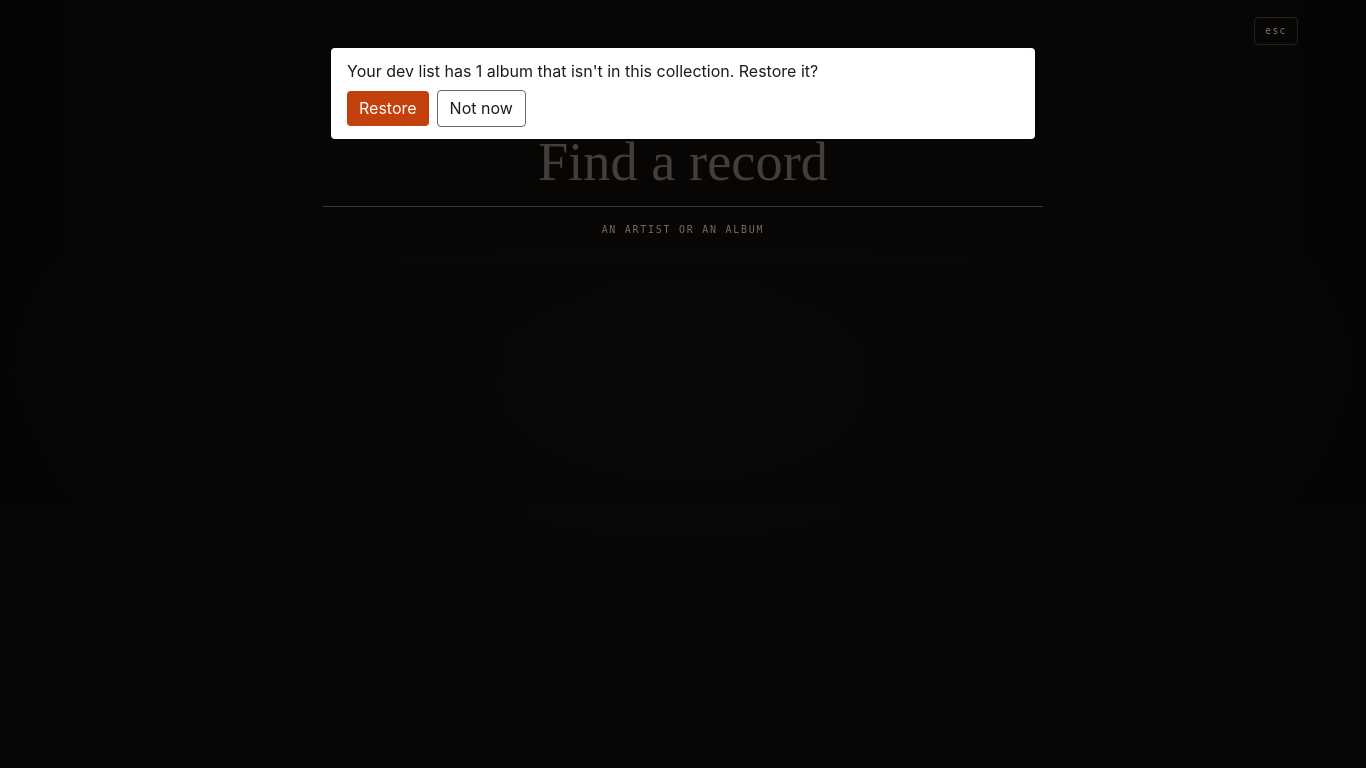
Test case: The dev list › can be put off
Expected: the element "dev list" shows "Your dev list has 1 album that isn't in this collection. Restore it?", x1=331 y1=48 x2=1035 y2=139
Click the button "Not now" at (481, 109), box x1=437 y1=90 x2=526 y2=127
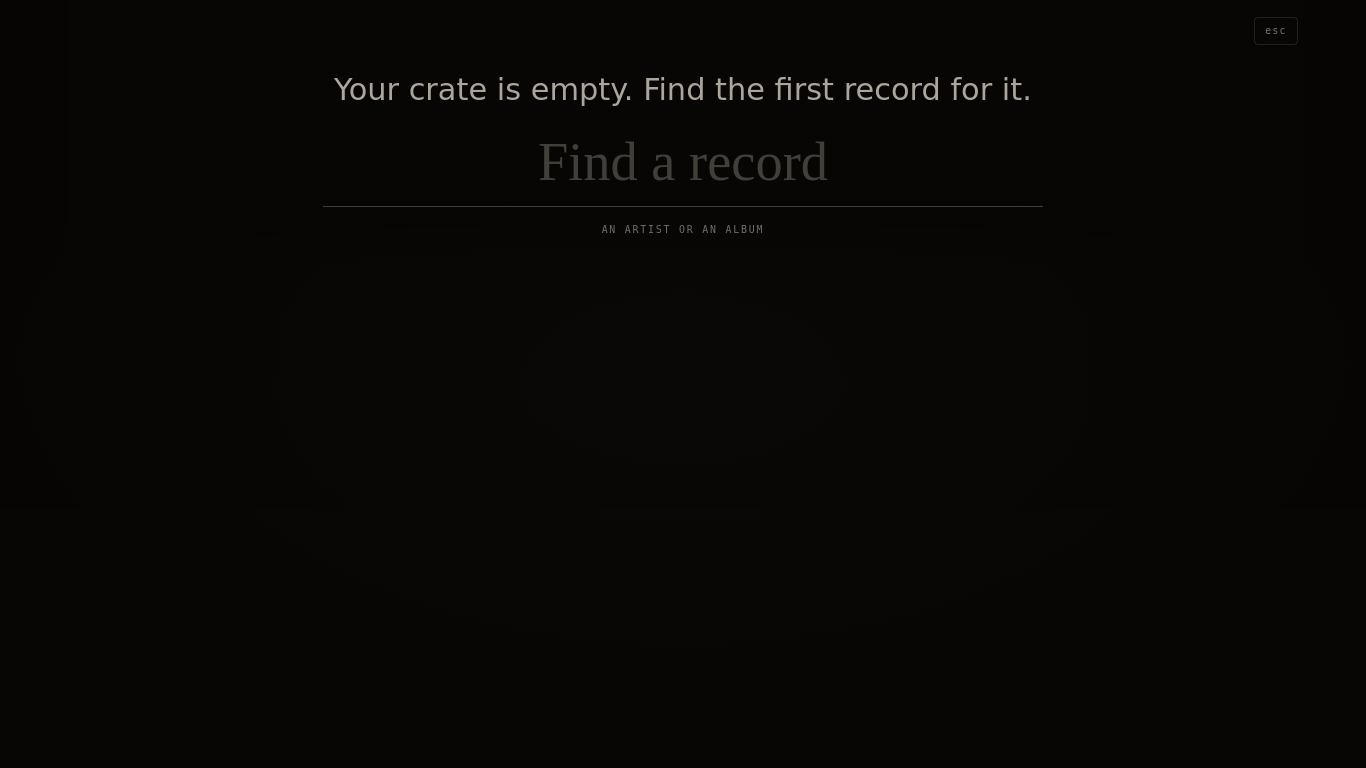
Now the text "dev list" is gone
